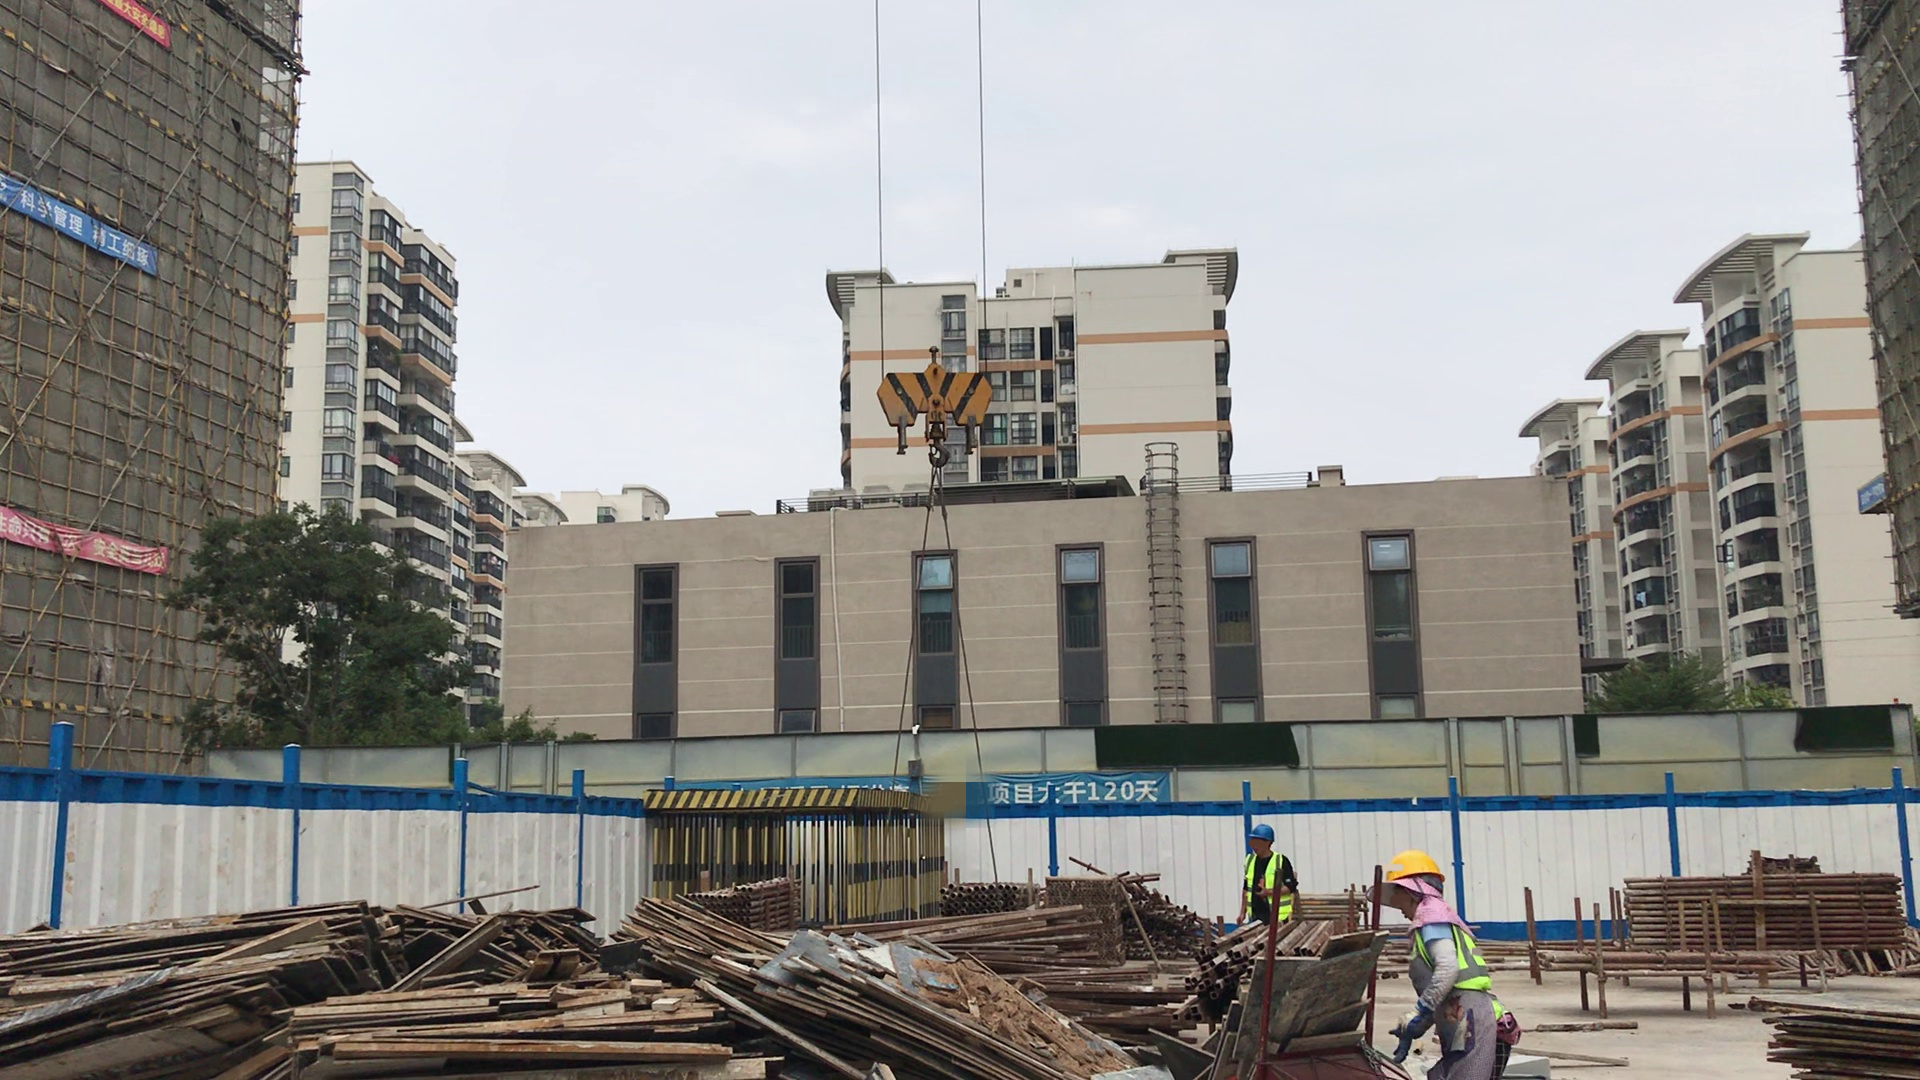board: (611, 895, 1102, 1080), (3, 904, 387, 1080), (274, 961, 717, 1080), (1757, 986, 1920, 1079)
helmet: (1372, 843, 1447, 887), (1239, 822, 1281, 845)
hook: (863, 339, 997, 460)
person: (1378, 854, 1526, 1080), (1238, 819, 1306, 933)
scaffold: (1602, 867, 1914, 979), (678, 857, 813, 946), (1124, 881, 1216, 968), (938, 868, 1039, 921)
slogan: (1, 174, 170, 308), (1, 519, 192, 587), (96, 1, 187, 64)
vest: (1399, 898, 1510, 1036), (1239, 850, 1298, 921)
